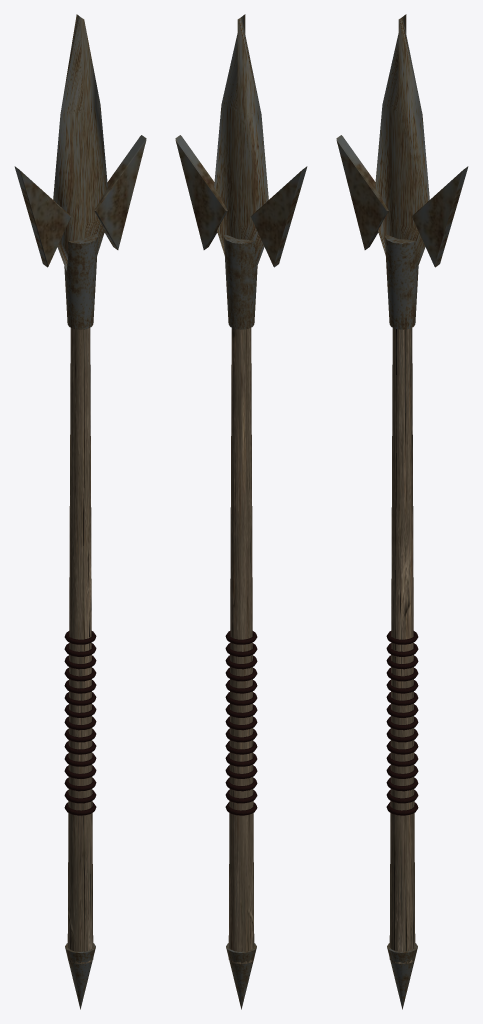
Rendered from weapon-spear.glb.
3 renders of one model, left to right at view 1: azimuth 30°, elevation 25°; view 2: azimuth 150°, elevation 25°; view 3: azimuth 330°, elevation 25°, orthographic.
Visible parts, largest first — view 1: WeaponMesh; view 2: WeaponMesh; view 3: WeaponMesh.
Boxes of the visible parts, <box> form: WeaponMesh: <box>14,14,146,1009</box>; WeaponMesh: <box>175,14,307,1009</box>; WeaponMesh: <box>336,14,468,1009</box>.
Bounding box in the file's own units: 0.2727 × 2.04 × 0.066.
Materials: 4 (4 with a texture image).
